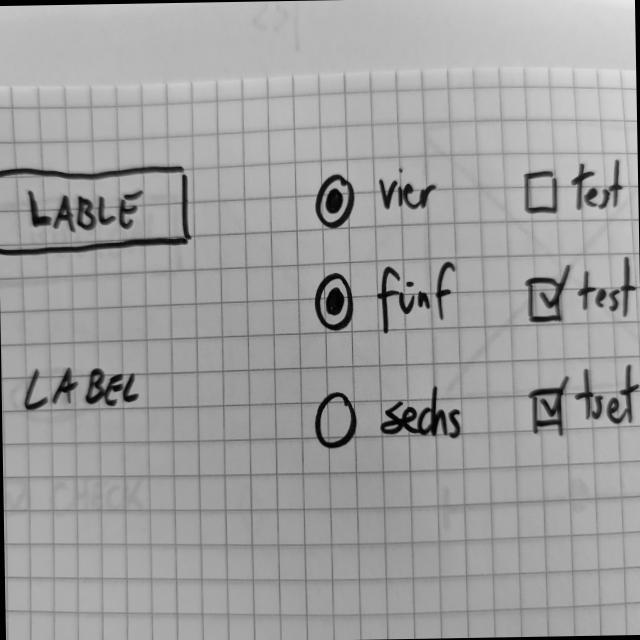button: (1, 159, 196, 258)
checkbox: (528, 359, 640, 437), (525, 252, 637, 329), (522, 151, 627, 219)
label: (20, 358, 146, 418)
radio: (312, 258, 463, 341), (312, 384, 467, 453), (314, 165, 441, 235)
